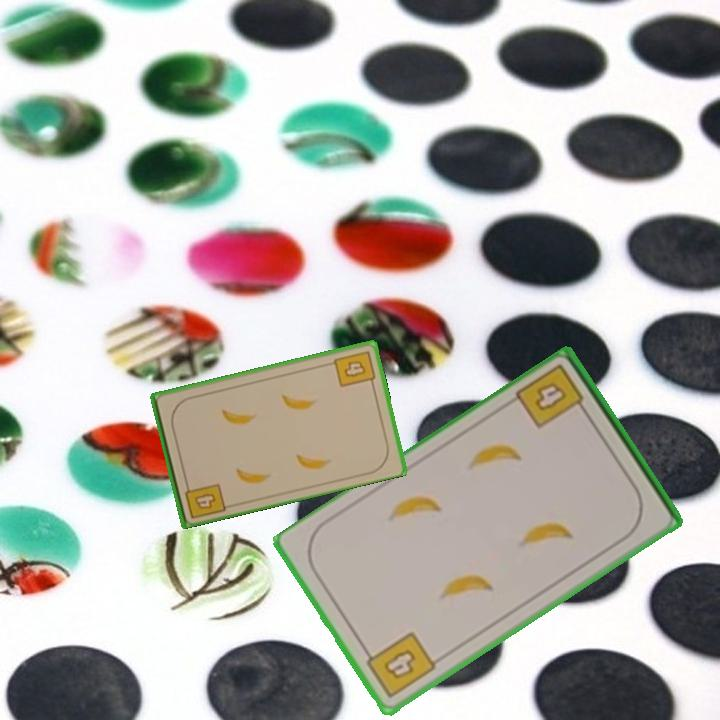4b: (360, 628, 439, 702), (512, 360, 592, 432), (181, 477, 228, 521), (330, 347, 378, 390)
